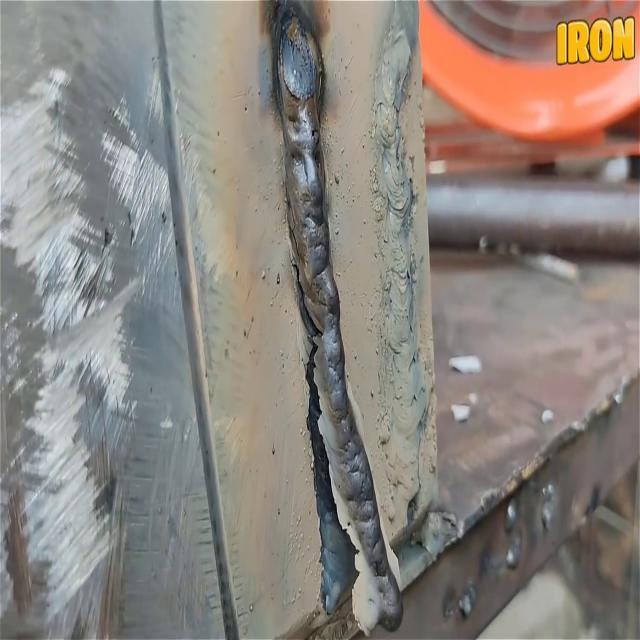Bad Welding: (271, 2, 401, 630), (372, 30, 422, 521)
Crack: (278, 154, 357, 606)
